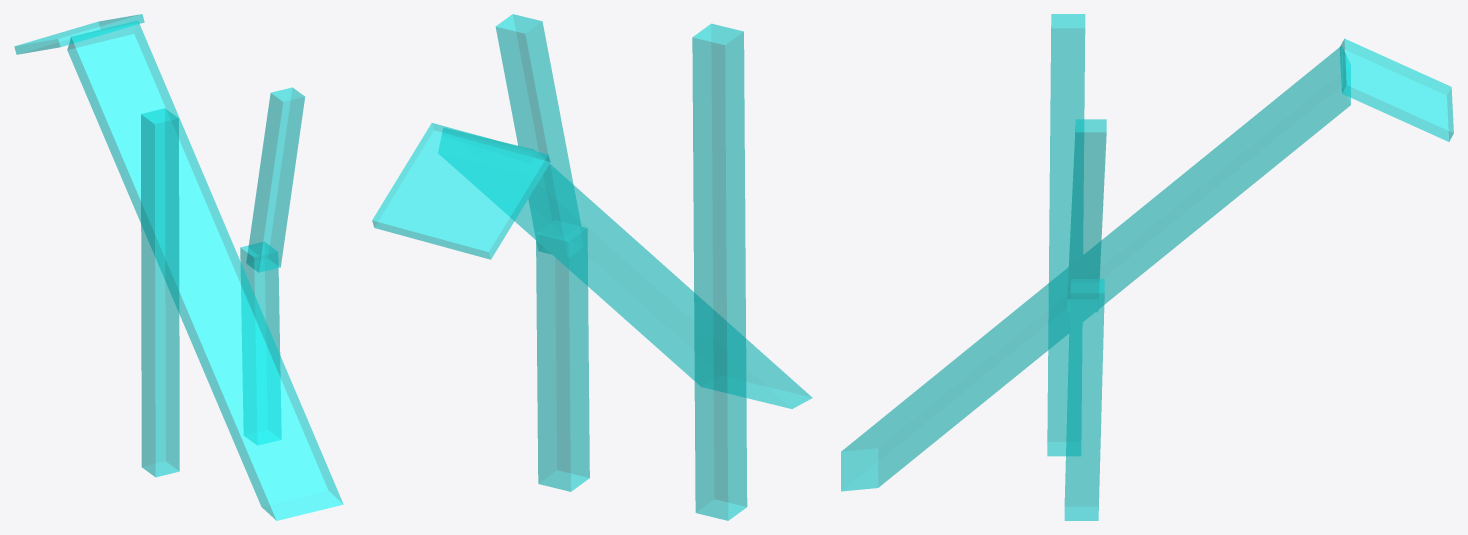
Rendered from SM_Bld_Plane_Front_01_Stairs_01_Collision.fbx.
The picture shows the model from 3 angles, left to right: view 1: azimuth 30°, elevation 25°; view 2: azimuth 150°, elevation 25°; view 3: azimuth 270°, elevation 25°; orthographic projection. The views are drawn at different scales.
Parts seen in each view (by area): view 1: SM_Bld_Plane_Front_01_Stairs_01_Collision; view 2: SM_Bld_Plane_Front_01_Stairs_01_Collision; view 3: SM_Bld_Plane_Front_01_Stairs_01_Collision.
Part boxes in pixels (x1,y1,x2,y2): SM_Bld_Plane_Front_01_Stairs_01_Collision: (14,14,343,520); SM_Bld_Plane_Front_01_Stairs_01_Collision: (372,14,812,520); SM_Bld_Plane_Front_01_Stairs_01_Collision: (841,14,1453,520).
Bounding box in the file's own units: 318 × 663 × 860.
